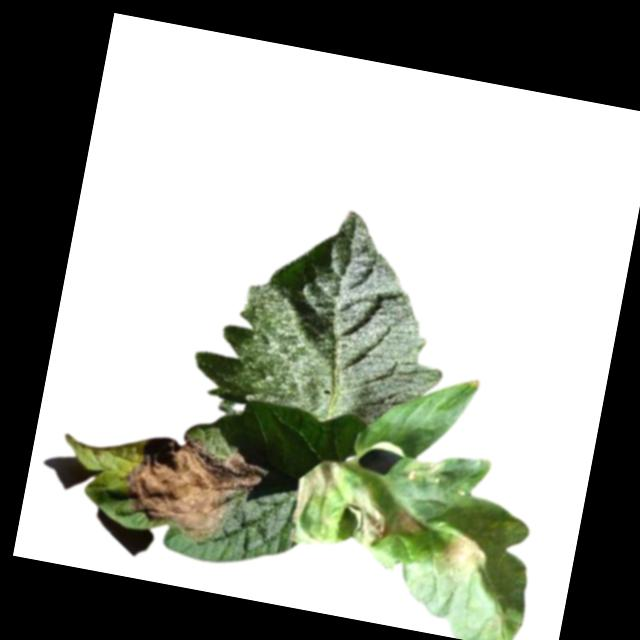Late_blight: (113, 422, 268, 548), (285, 452, 344, 534), (340, 480, 395, 546), (434, 524, 490, 579), (401, 452, 447, 488), (392, 505, 425, 536)
